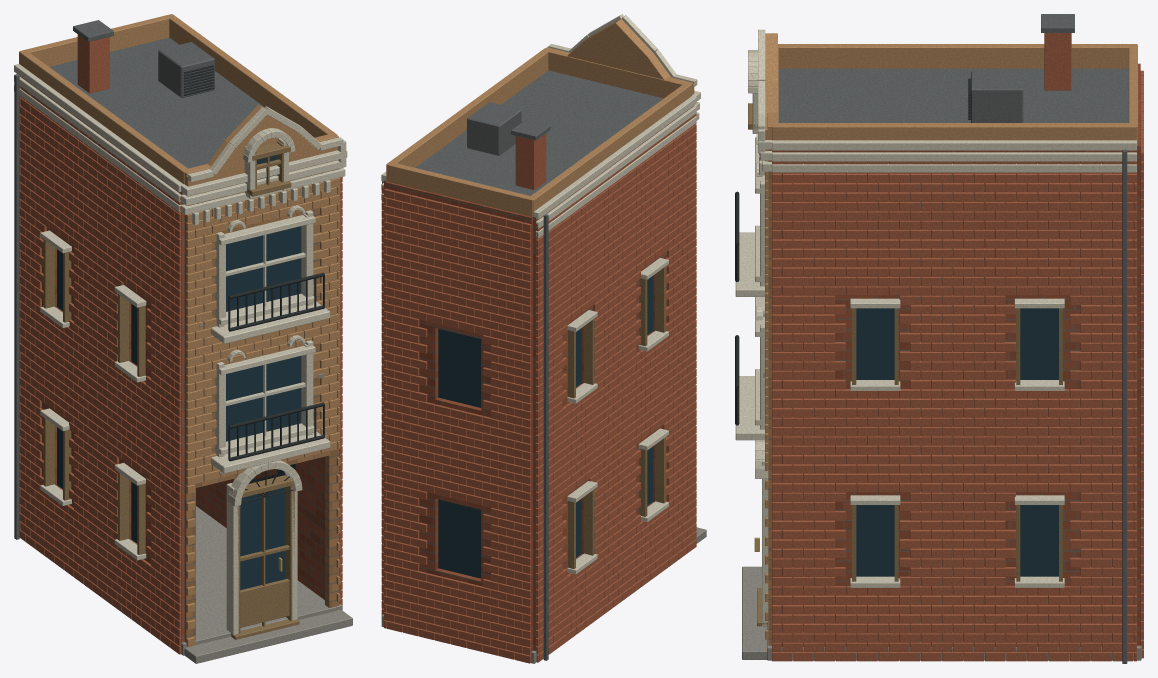
The model's file is VICT22_lod0.glb.
The picture shows the model from 3 angles, left to right: view 1: azimuth 30°, elevation 25°; view 2: azimuth 150°, elevation 25°; view 3: azimuth 270°, elevation 25°; orthographic projection. The views are drawn at different scales.
Parts seen in each view (by area): view 1: VICT22_LOD0; view 2: VICT22_LOD0; view 3: VICT22_LOD0.
Boxes of the visible parts, left/top/right/bottom form: VICT22_LOD0: left=14, top=14, right=352, bottom=663; VICT22_LOD0: left=381, top=14, right=706, bottom=663; VICT22_LOD0: left=735, top=14, right=1143, bottom=663.
Bounding box in the file's own units: 3.71 × 10.64 × 6.72.
Materials: 16 (13 with a texture image).
